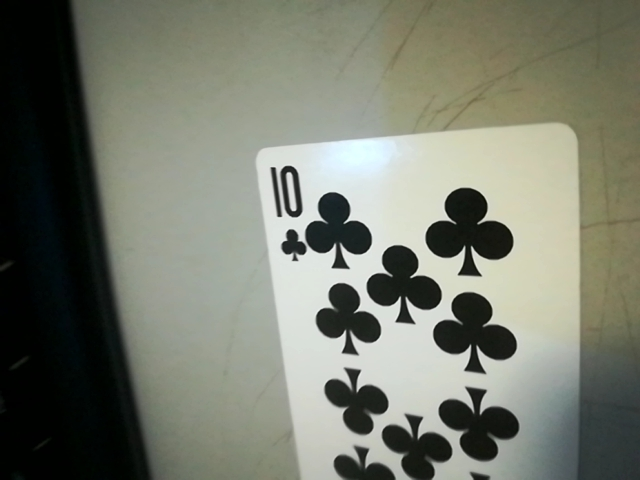mh 10: (257, 154, 314, 268)
